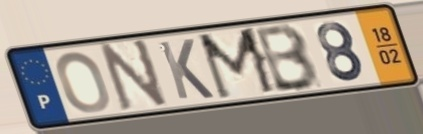8: (316, 20, 366, 84)
B: (253, 21, 322, 94)
K: (155, 37, 217, 102)
M: (194, 25, 281, 103)
N: (98, 36, 172, 114)
O: (54, 49, 113, 115)
